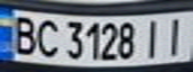1: (81, 18, 103, 61)
2: (100, 19, 121, 62)
3: (60, 18, 84, 61)
8: (115, 18, 142, 62)
B: (6, 12, 39, 56)
C: (33, 16, 63, 58)
I: (160, 14, 193, 57), (139, 16, 169, 60)
